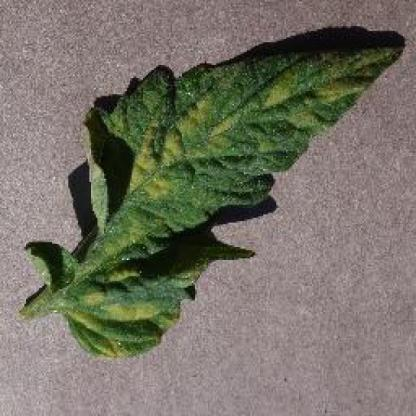Tomato_Leaf_Mold: (19, 42, 406, 358)
